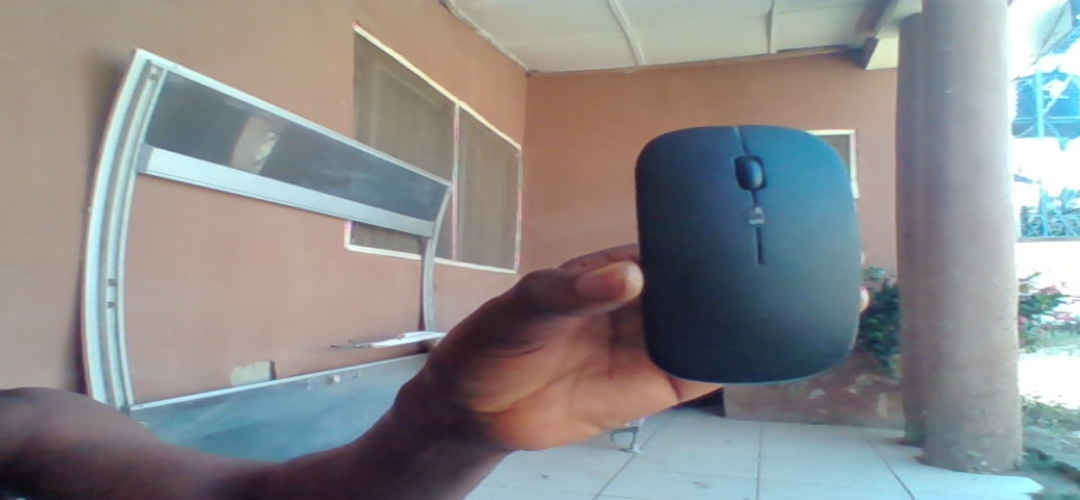wireless_mouse: (623, 123, 862, 389)
